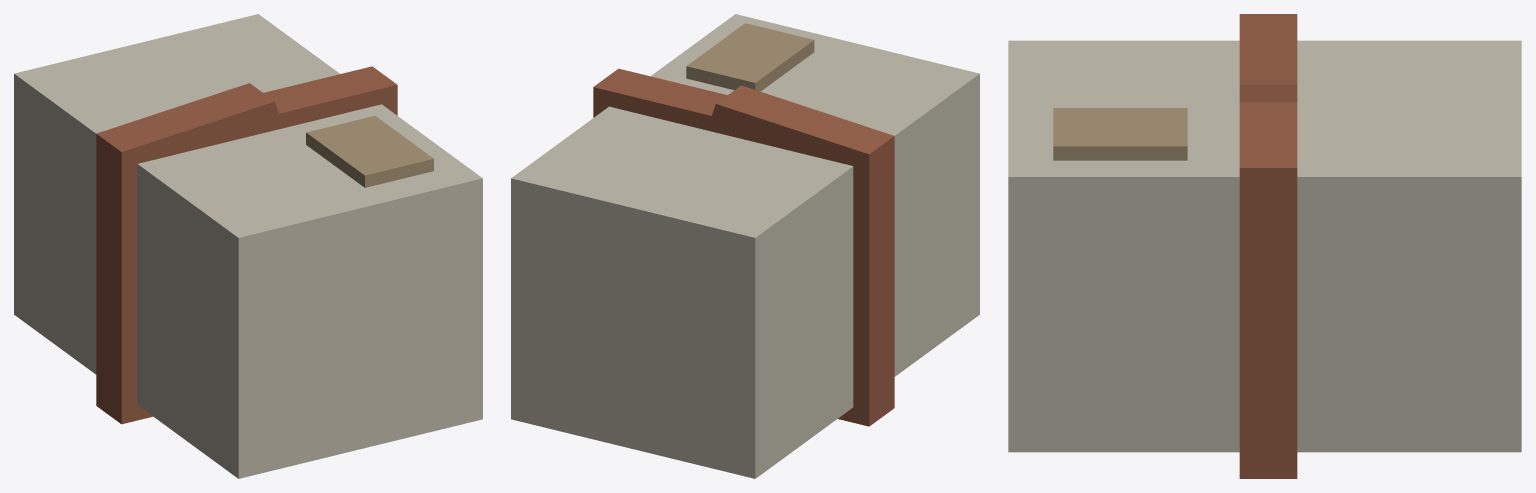
Rendered from LightPaperDecorationSmallPackage1.fbx.
3 renders of one model, left to right at view 1: azimuth 30°, elevation 25°; view 2: azimuth 150°, elevation 25°; view 3: azimuth 270°, elevation 25°, orthographic. The views are drawn at different scales.
Parts seen in each view (by area): view 1: LightPaperDecorationSmallPackage1; view 2: LightPaperDecorationSmallPackage1; view 3: LightPaperDecorationSmallPackage1.
Part boxes in pixels (<box>): LightPaperDecorationSmallPackage1: <box>14,14,482,478</box>; LightPaperDecorationSmallPackage1: <box>511,14,979,478</box>; LightPaperDecorationSmallPackage1: <box>1008,14,1521,478</box>.
Size of the model in its own units: 83.57 by 82.58 by 118.
